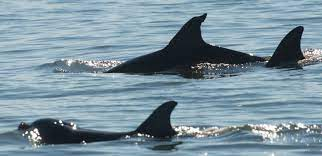fin: (82, 10, 266, 81)
